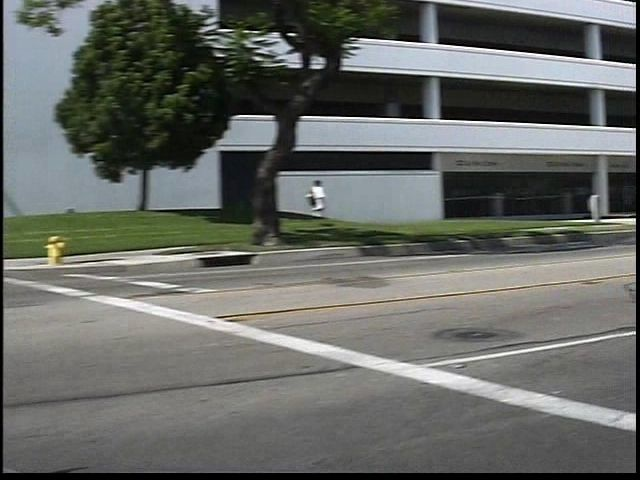person: (323, 176, 349, 238)
